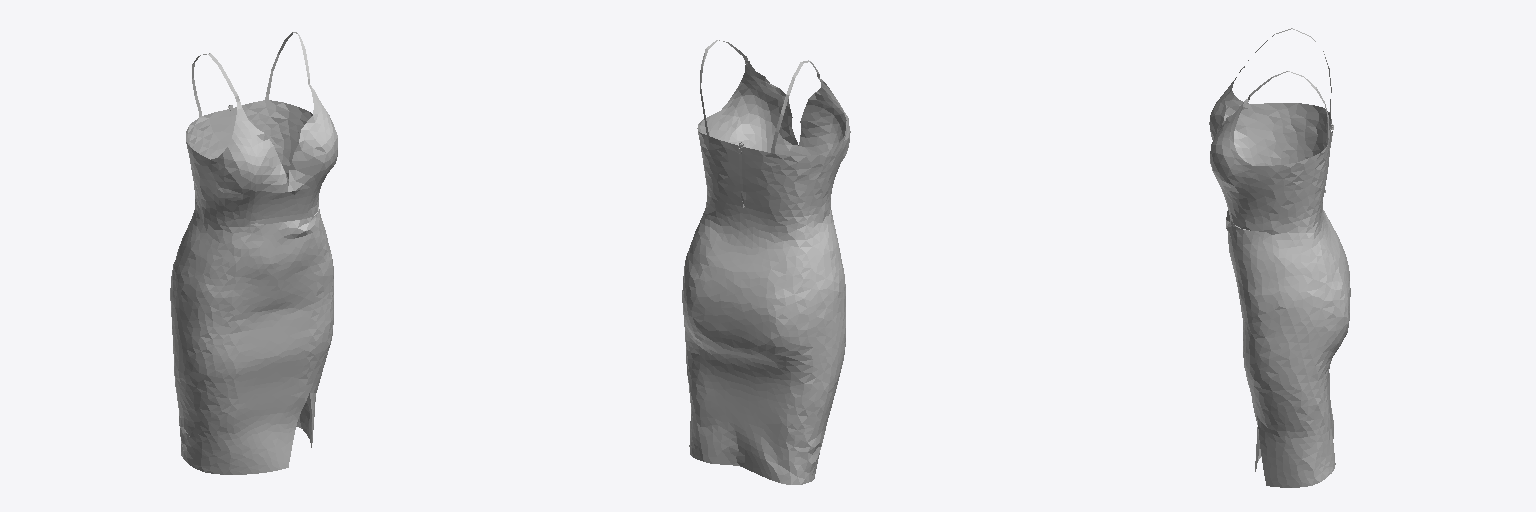
File: small_roseDress_noinside3.obj
3 renders of one model, left to right at view 1: azimuth 30°, elevation 25°; view 2: azimuth 150°, elevation 25°; view 3: azimuth 270°, elevation 25°, orthographic.
Visible parts, largest first — view 1: small_roseDress_noinside:polySurface2 small_roseDress_noinside:p; view 2: small_roseDress_noinside:polySurface2 small_roseDress_noinside:p; view 3: small_roseDress_noinside:polySurface2 small_roseDress_noinside:p.
Part boxes in pixels (left/top/right/bottom): small_roseDress_noinside:polySurface2 small_roseDress_noinside:p: left=170, top=32, right=337, bottom=474; small_roseDress_noinside:polySurface2 small_roseDress_noinside:p: left=682, top=40, right=850, bottom=484; small_roseDress_noinside:polySurface2 small_roseDress_noinside:p: left=1209, top=28, right=1350, bottom=487.
Bounding box in the file's own units: 6.53 × 17.56 × 5.41.